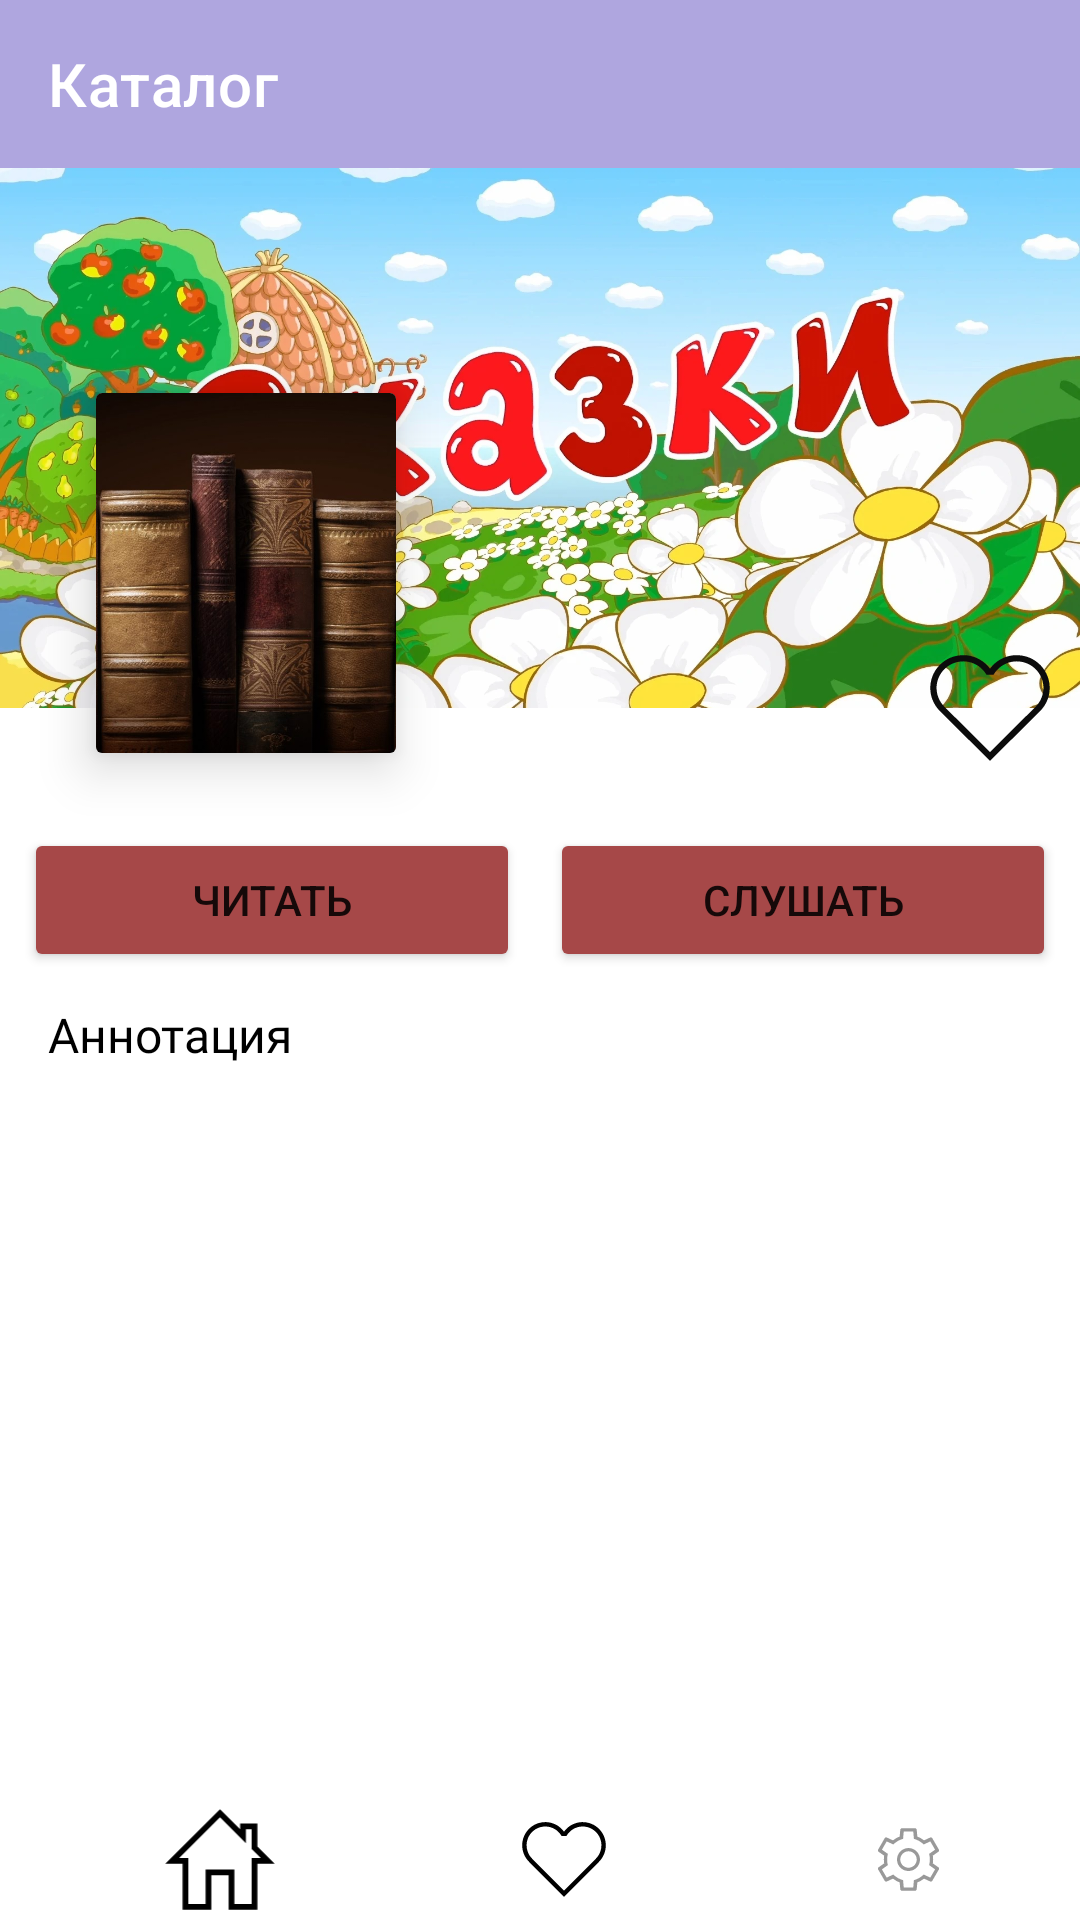

Where icons sit on this 1080x1920 app screen, as (x1, y1, x2, y2):
cog: (878, 1828, 939, 1891)
heart not: (930, 648, 1050, 761), (522, 1822, 606, 1897)
home not: (165, 1809, 275, 1910)
